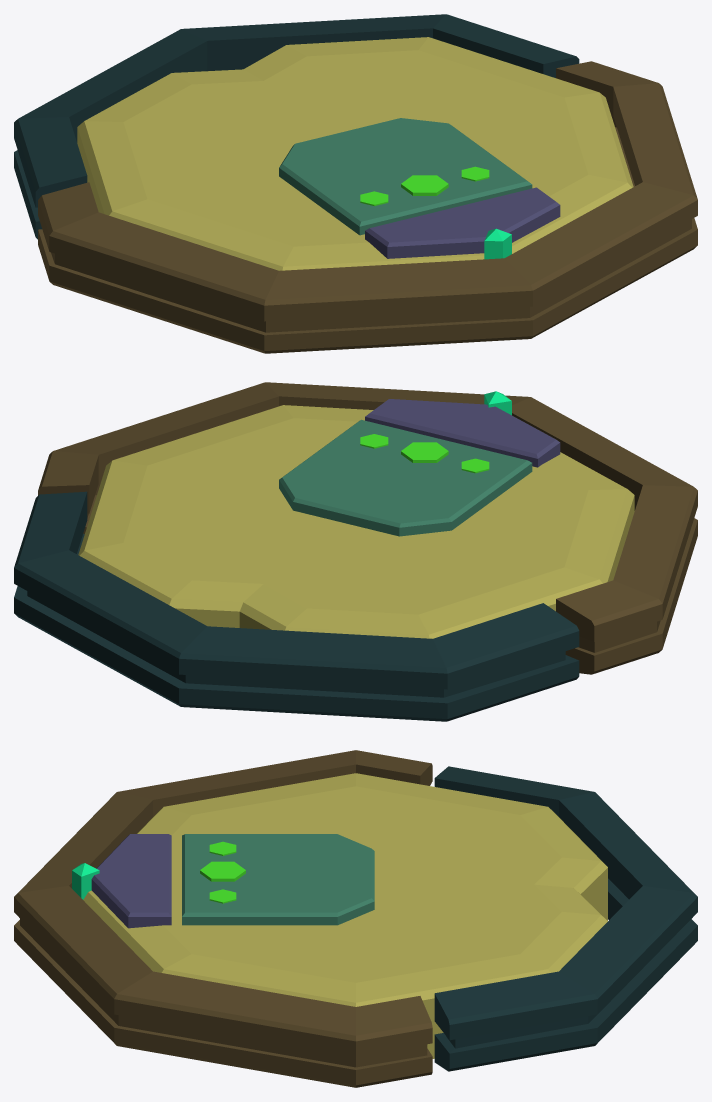
Rendered from smart pilisos.fbx.
The picture shows the model from 3 angles, top to bottom: view 1: azimuth 30°, elevation 25°; view 2: azimuth 150°, elevation 25°; view 3: azimuth 270°, elevation 25°; orthographic projection. The views are drawn at different scales.
Visible parts, largest first — view 1: Cube.032, Cube.033, Cube.034, Cube.035, Cube.036, Cube.038, Cube.037; view 2: Cube.032, Cube.034, Cube.033, Cube.035, Cube.036, Cube.038; view 3: Cube.032, Cube.033, Cube.034, Cube.035, Cube.036, Cube.038, Cube.037.
Part boxes in pixels (<box>): Cube.032: <box>77,37,633,270</box>; Cube.033: <box>38,61,697,353</box>; Cube.034: <box>14,14,579,239</box>; Cube.035: <box>279,118,532,235</box>; Cube.036: <box>365,187,560,258</box>; Cube.038: <box>401,175,448,195</box>; Cube.037: <box>484,228,511,259</box>; Cube.032: <box>78,405,634,638</box>; Cube.034: <box>14,491,579,721</box>; Cube.033: <box>38,382,697,674</box>; Cube.035: <box>279,419,532,536</box>; Cube.036: <box>365,399,560,467</box>; Cube.038: <box>401,442,448,462</box>; Cube.032: <box>83,773,607,1058</box>; Cube.033: <box>14,750,432,1087</box>; Cube.034: <box>434,766,697,1071</box>; Cube.035: <box>182,834,374,925</box>; Cube.036: <box>91,834,171,928</box>; Cube.038: <box>200,861,245,881</box>; Cube.037: <box>72,863,99,899</box>.
Bounding box in the file's own units: 39.45 × 5.85 × 39.45.
